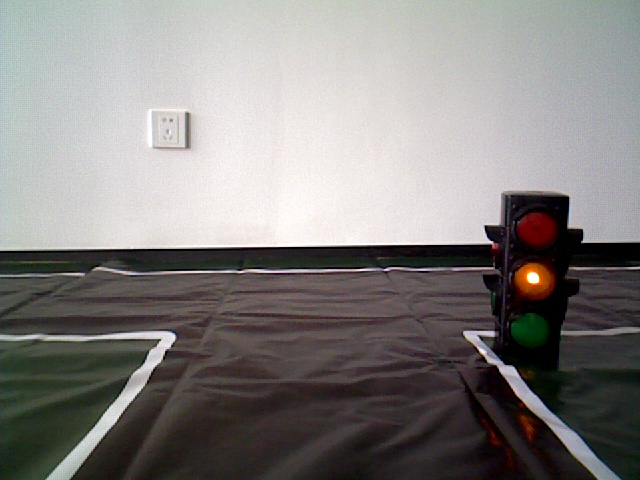yellow: (498, 192, 572, 360)
